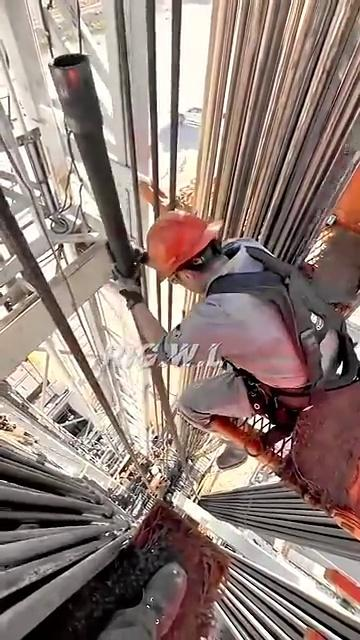gloves: (97, 265, 158, 305)
helmet: (142, 215, 212, 287)
shoes: (215, 430, 272, 470)
worker: (53, 182, 350, 517)
